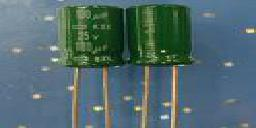Electrolytic Capacitor: (54, 3, 129, 128), (126, 6, 197, 87)
